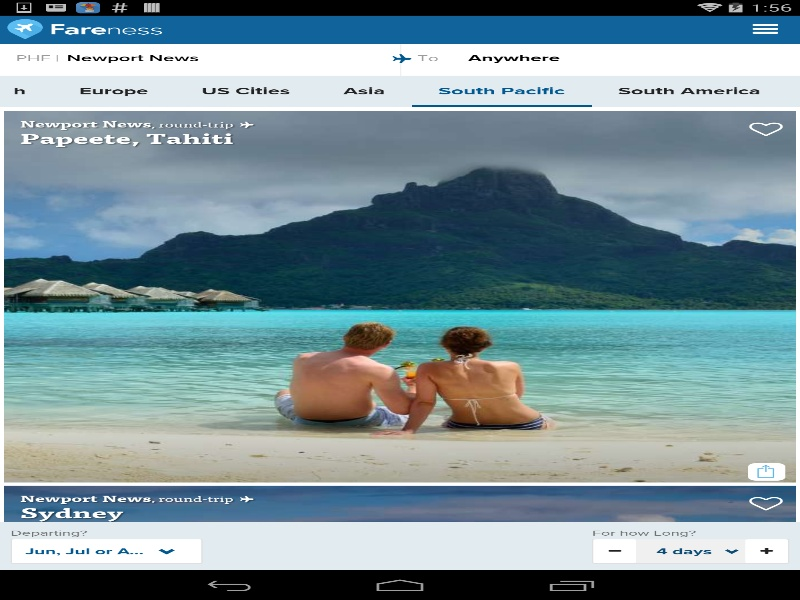Button: (736, 457, 796, 485)
Input: (66, 51, 349, 64), (468, 51, 728, 64)
